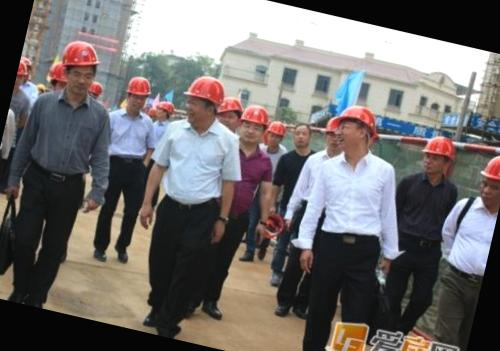no_helmet: (290, 116, 317, 151)
